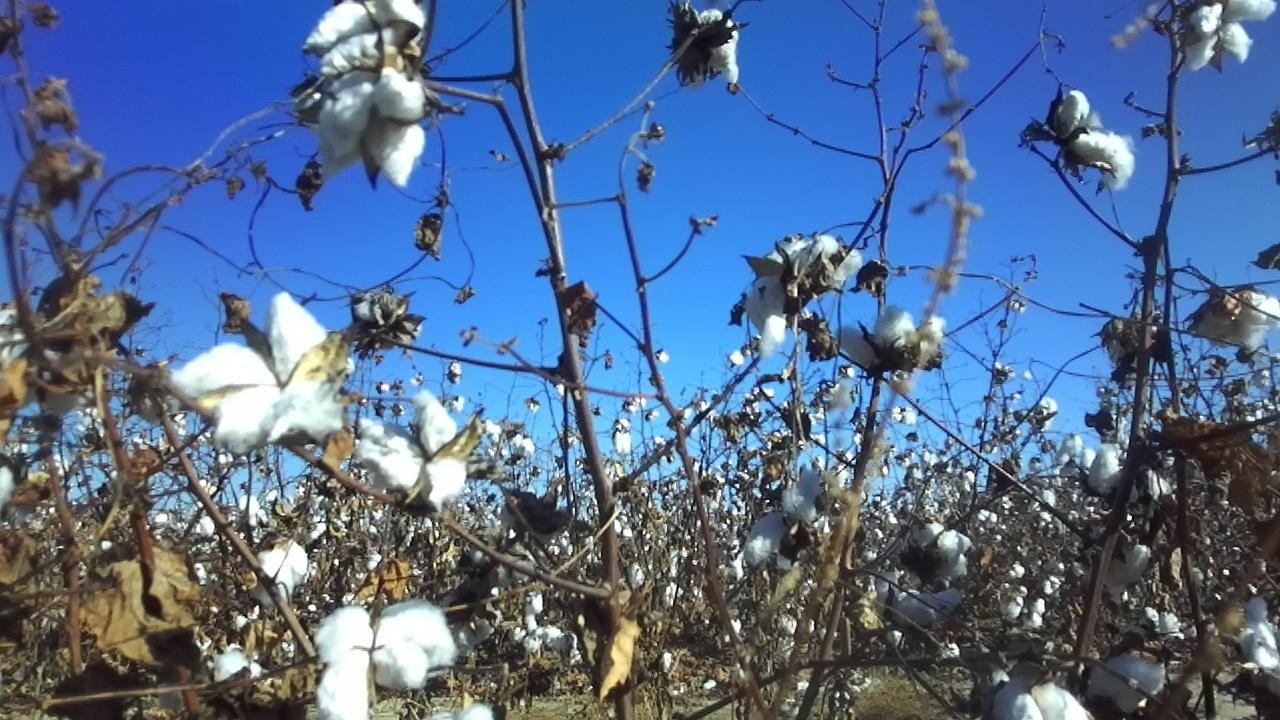cotton_ready: (170, 290, 346, 453), (315, 597, 462, 720), (747, 234, 863, 352), (353, 393, 473, 501), (322, 69, 429, 186), (303, 0, 427, 72), (0, 308, 80, 413), (743, 465, 824, 565), (1058, 89, 1135, 192), (160, 640, 267, 711), (1185, 0, 1277, 75), (1082, 519, 1155, 607), (872, 572, 961, 636), (838, 309, 946, 360), (1190, 293, 1279, 350), (1089, 447, 1172, 504), (1082, 653, 1170, 704), (906, 522, 972, 586), (686, 9, 740, 87), (990, 682, 1093, 720), (1239, 597, 1280, 691), (251, 543, 310, 606), (440, 597, 503, 648), (462, 547, 536, 587), (426, 702, 495, 720)
